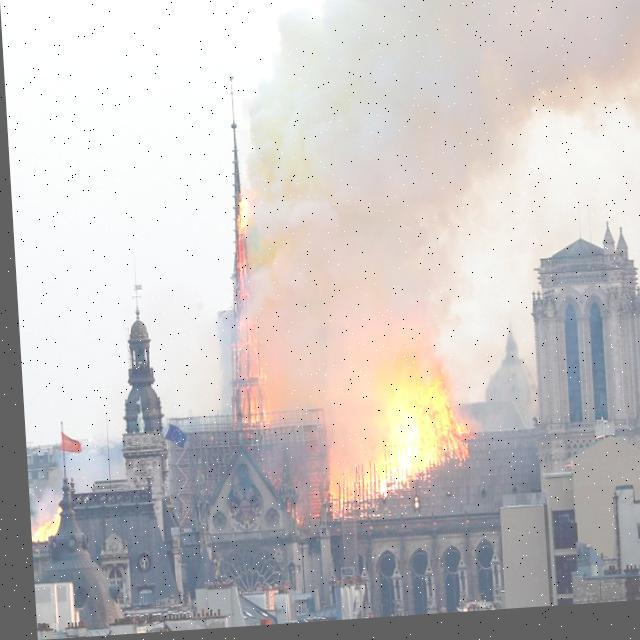Fire: (282, 374, 476, 522), (204, 192, 269, 426), (24, 498, 62, 545)
